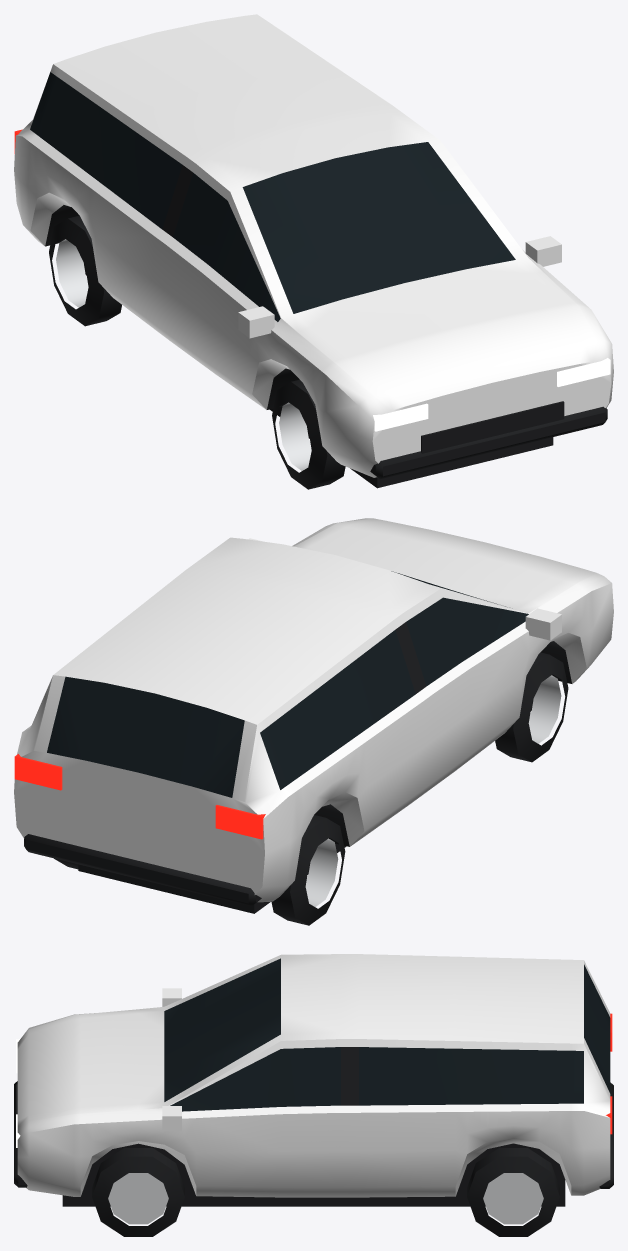
Rendered from car_compact.gltf.
3 renders of one model, top to bottom at view 1: azimuth 30°, elevation 25°; view 2: azimuth 150°, elevation 25°; view 3: azimuth 270°, elevation 25°, orthographic. The views are drawn at different scales.
Visible parts, largest first — view 1: car_compact_body; view 2: car_compact_body; view 3: car_compact_body.
Part boxes in pixels (left/top/right/bottom): car_compact_body: left=14, top=14, right=613, bottom=489; car_compact_body: left=14, top=518, right=613, bottom=925; car_compact_body: left=14, top=954, right=613, bottom=1236.
Size of the model in its own units: 2.02 by 1.45 by 4.
